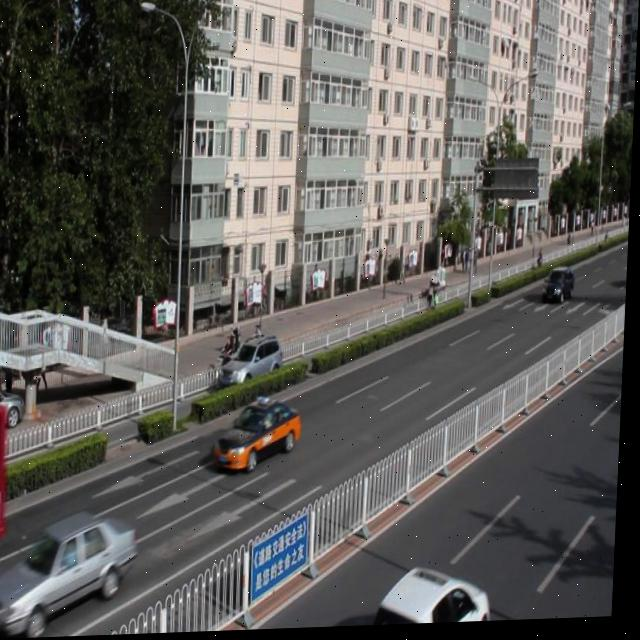car: (0, 508, 138, 640), (372, 564, 496, 628), (215, 398, 306, 472), (222, 335, 288, 389)
van: (0, 390, 13, 578)
